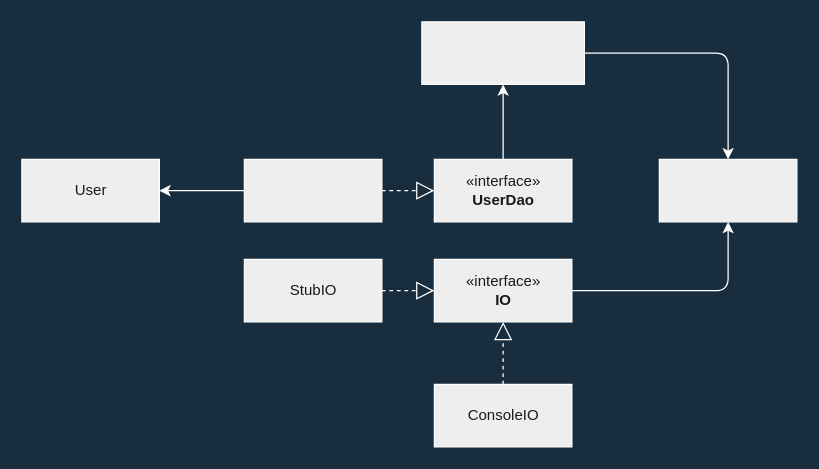
Some shapes in this 819 by 469 pixel diagram are drawn without their labels. The box of each missing label's shape, as (x1, y1, x2, y2) in pixels:
App: (658, 158, 797, 222)
AuthenticationService: (421, 21, 584, 84)
InMemoryUserDao: (243, 158, 382, 222)
